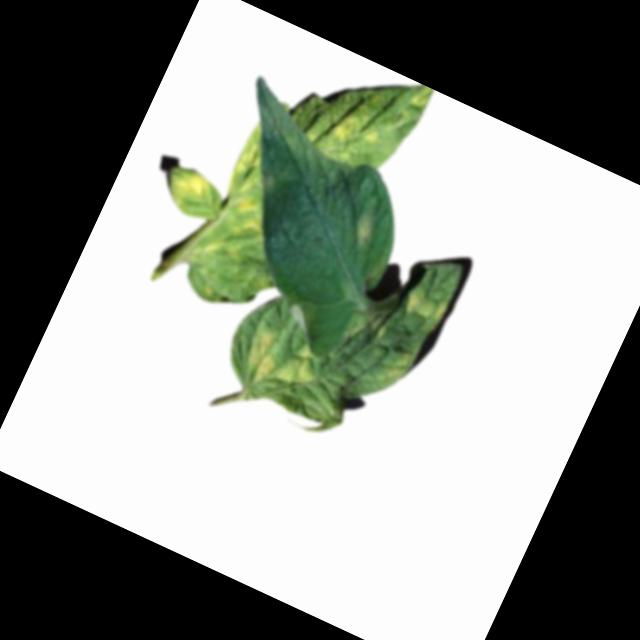Leaf_Mold: (191, 123, 302, 278), (234, 318, 328, 405), (325, 100, 385, 158), (159, 161, 215, 213), (399, 283, 449, 326), (380, 345, 414, 388), (347, 216, 378, 252), (402, 81, 435, 114)
